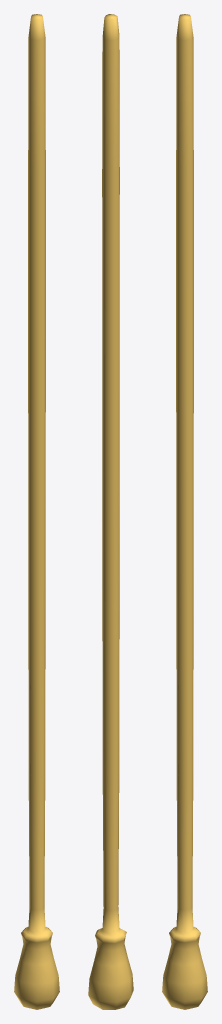
File: Touw.fbx
3 renders of one model, left to right at view 1: azimuth 90°, elevation 25°; view 2: azimuth 150°, elevation 25°; view 3: azimuth 270°, elevation 25°, orthographic.
Parts seen in each view (by area): view 1: Cube; view 2: Cube; view 3: Cube.
Part boxes in pixels (x1,y1,x2,y2): Cube: (14, 14, 59, 1009); Cube: (88, 14, 133, 1009); Cube: (162, 14, 207, 1009).
Size of the model in its own units: 277 by 6628 by 277.
